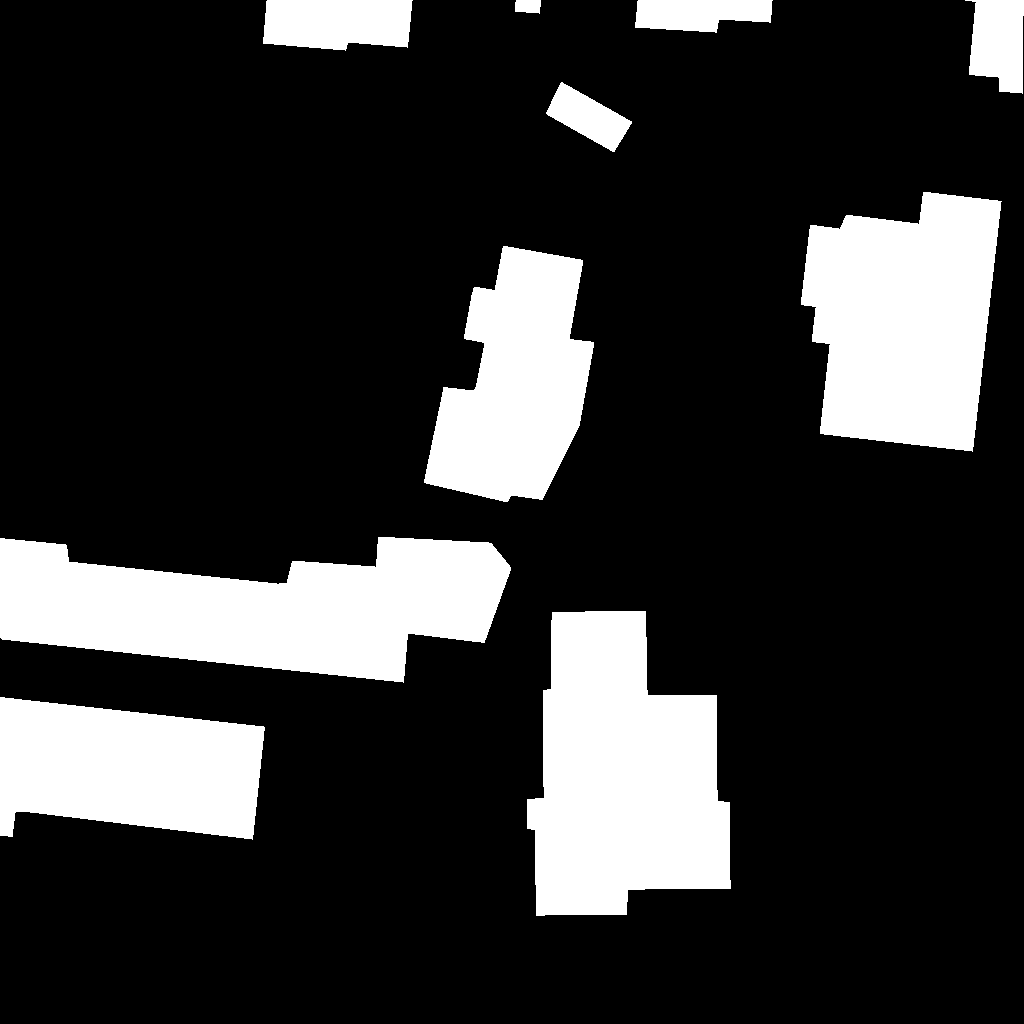building: (0, 537, 512, 683), (527, 611, 731, 916), (801, 192, 1002, 452), (424, 246, 595, 503), (0, 697, 266, 840), (263, 0, 542, 51), (546, 82, 633, 153), (962, 0, 1024, 94), (635, 0, 773, 33)
